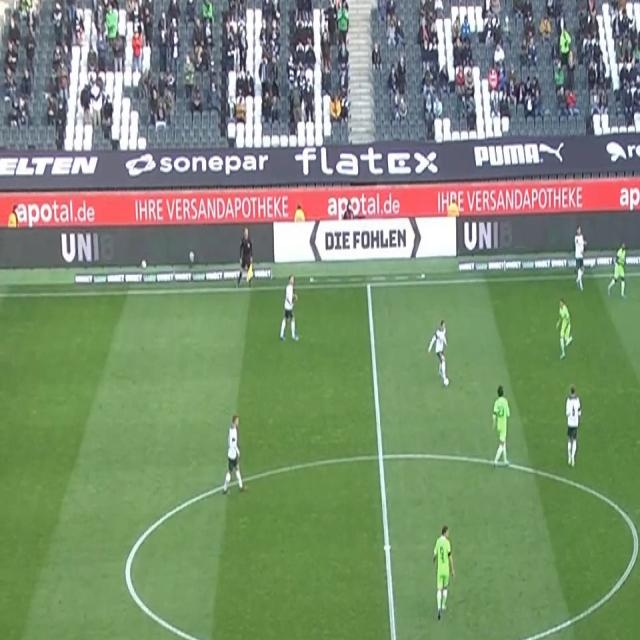ball: (442, 374, 450, 389)
